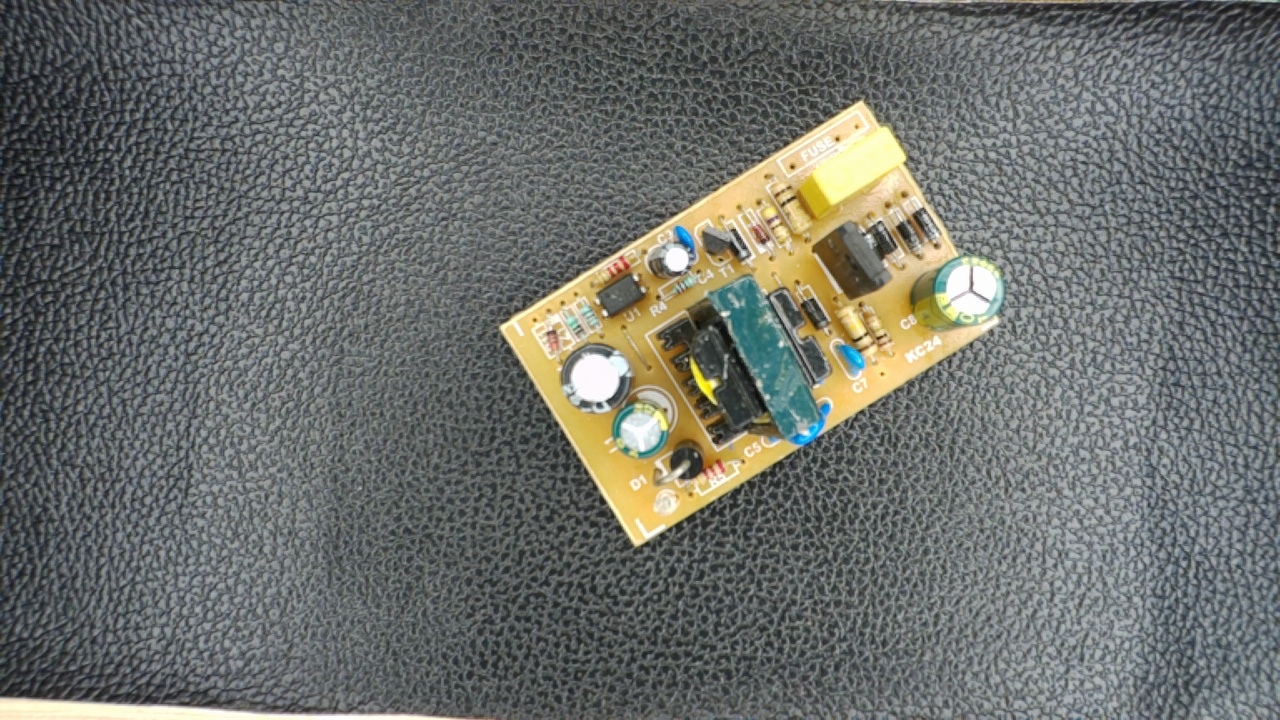hv_capacitor: (911, 254, 1007, 332)
mov: (792, 402, 840, 449)
optocoupler: (593, 276, 651, 320)
